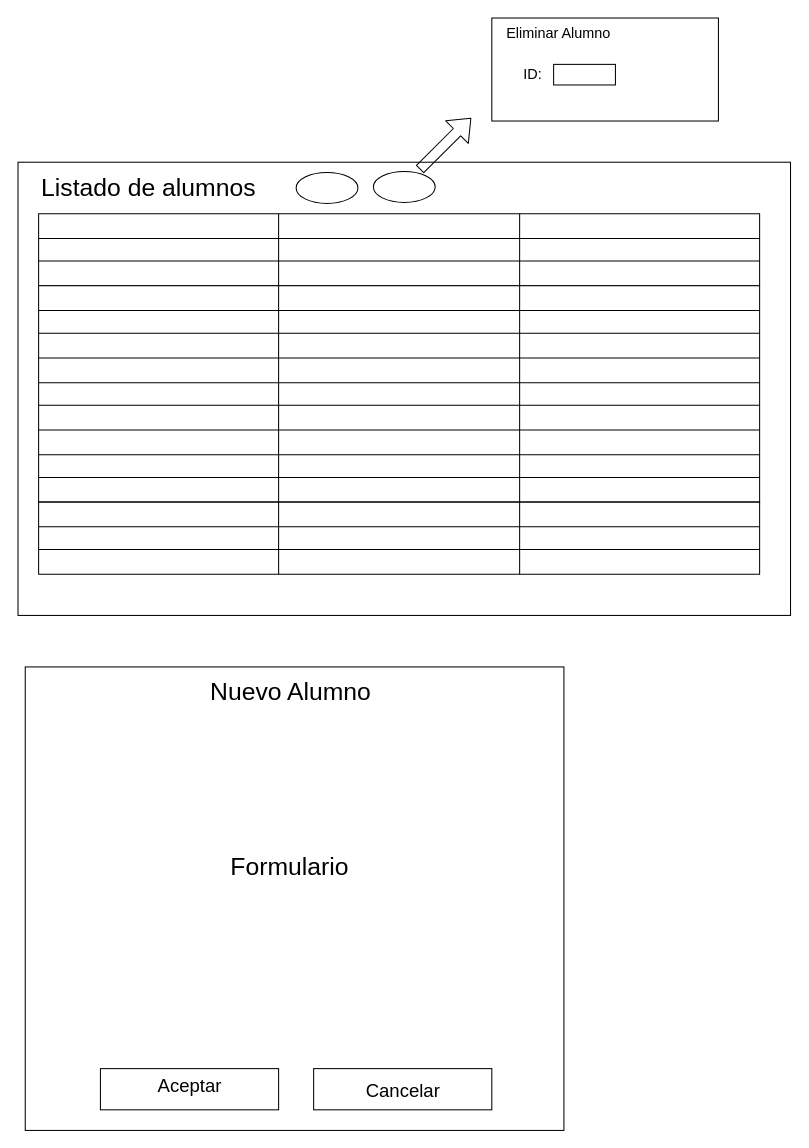
The diagram is 809 pixels wide and 1148 high, and some of its shapes have lost their labels. Each missing label, with the centre of its shape:
"Delete" goes at [403,186].
"New" goes at [326,187].
